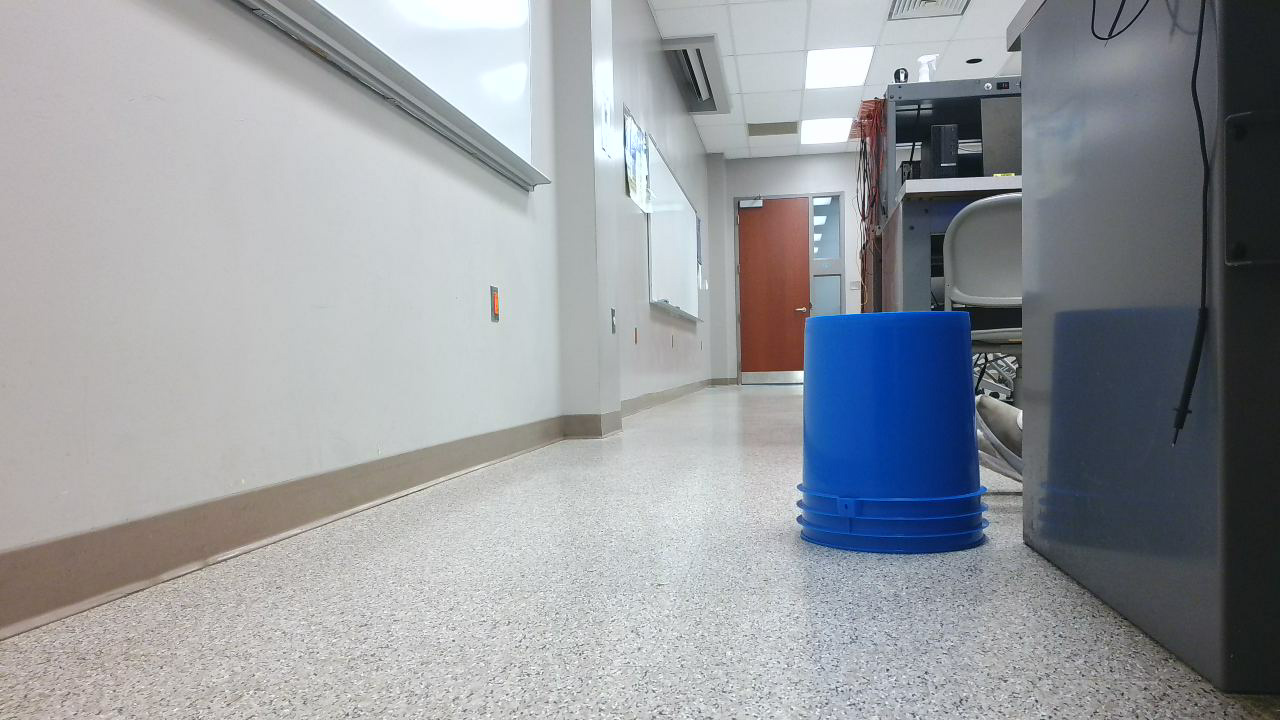blue_bucket: (797, 312, 999, 563)
